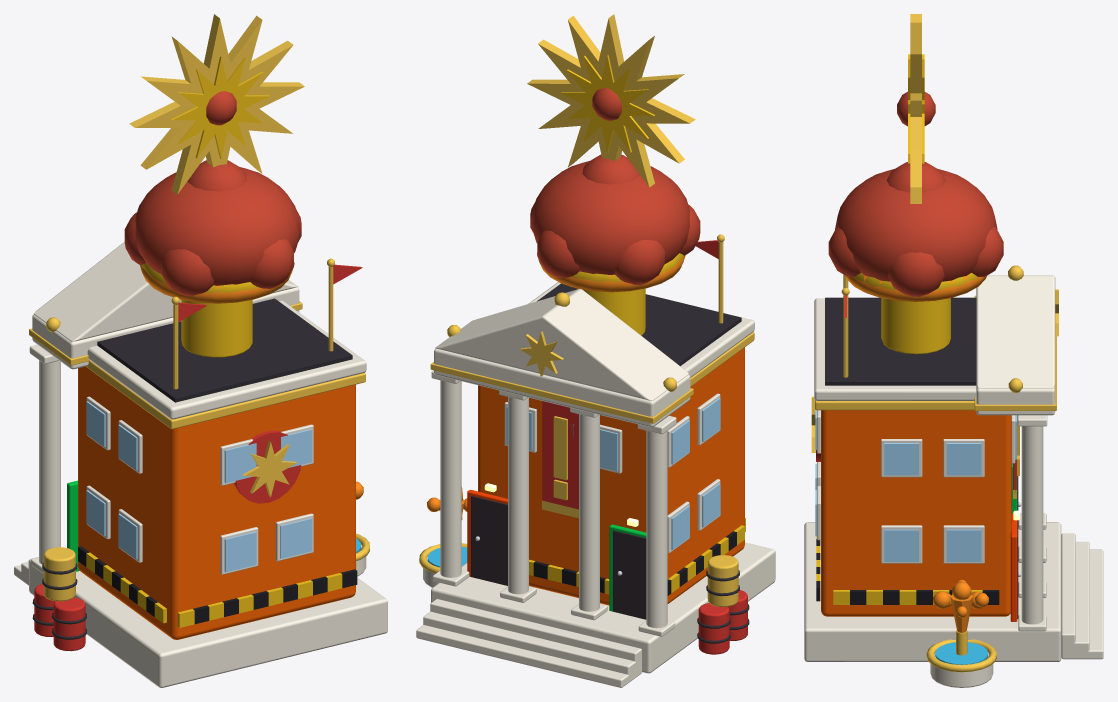
The model's file is building_blasting_academy_t3.glb.
3 views of the same model, side by side, from view 1: azimuth 30°, elevation 25°; view 2: azimuth 150°, elevation 25°; view 3: azimuth 270°, elevation 25° (orthographic). The views are drawn at different scales.
Parts seen in each view (by area): view 1: Walls, Stylobate, Cloud.Cap, Roof.Inner, Boom.Burst, Pediment, Roof, Column, Boom.Inner, Cloud.Stem, Cornice, Entablature (+24 smaller); view 2: Walls, Pediment, Cloud.Cap, Stylobate, Boom.Burst, Entablature, Column.003, Column, Roof.Inner, Column.001, Column.002, Step2 (+30 smaller); view 3: Walls, Stylobate, Cloud.Cap, Roof.Inner, Pediment, Column.003, Cloud.Stem, Roof, Boom.Burst, Cloud.Puff, Step0, Step1 (+25 smaller).
Part boxes in pixels (x1,y1,x2,y2): Walls: (78, 366, 355, 639); Stylobate: (29, 557, 387, 687); Cloud.Cap: (135, 166, 300, 285); Roof.Inner: (97, 298, 352, 402); Boom.Burst: (129, 14, 304, 194); Pediment: (34, 242, 297, 341); Roof: (87, 300, 366, 419); Column: (39, 360, 60, 564); Boom.Inner: (171, 56, 269, 158); Cloud.Stem: (181, 300, 252, 357); Cornice: (86, 360, 365, 429); Entablature: (32, 287, 299, 369); Walls: (478, 347, 744, 605); Pediment: (435, 289, 688, 400); Cloud.Cap: (531, 161, 689, 274); Stylobate: (431, 542, 775, 673); Boom.Burst: (527, 14, 695, 187); Entablature: (434, 348, 690, 427); Column.003: (440, 380, 461, 577); Column: (646, 430, 667, 628); Roof.Inner: (537, 283, 741, 365); Column.001: (579, 414, 599, 611); Column.002: (508, 397, 528, 594); Step2: (416, 625, 636, 687); Walls: (821, 410, 1011, 616); Stylobate: (804, 522, 1061, 661); Cloud.Cap: (835, 169, 997, 281); Roof.Inner: (825, 297, 976, 385); Pediment: (976, 275, 1055, 388); Column.003: (1021, 426, 1043, 624); Cloud.Stem: (881, 298, 950, 354); Roof: (814, 298, 976, 400); Boom.Burst: (910, 14, 921, 203); Cloud.Puff: (888, 252, 944, 296); Step0: (1061, 533, 1075, 659); Step1: (1063, 541, 1089, 659).
Bounding box in the file's own units: 4.38 × 7.8 × 3.61.
